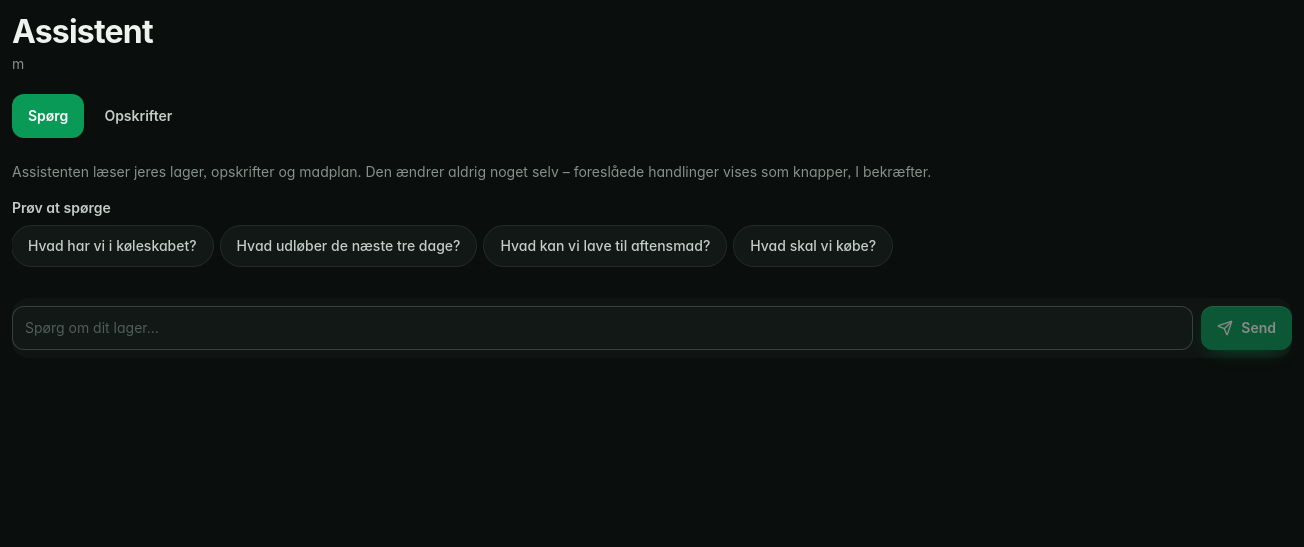
AssistantPage › shows proposed actions as buttons and runs one only when tapped
Step 1. Click the button "Hvad har vi i køleskabet?" → (112,246), box [12,226,213,266]
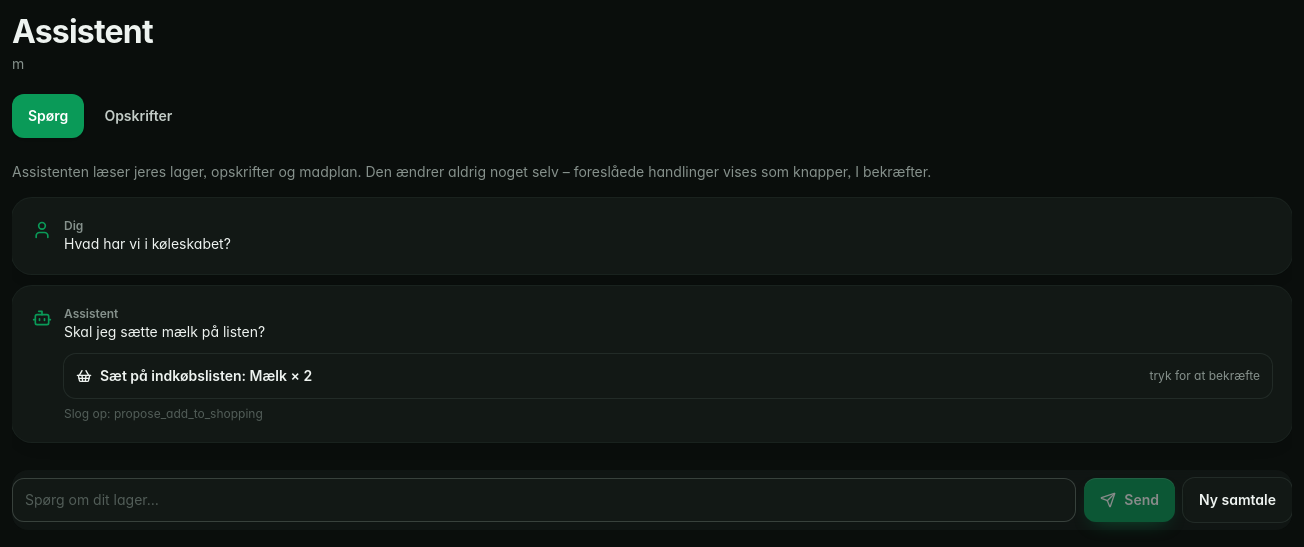
Now the button with test id "proposal" shows "Sæt på indkøbslisten: Mælk × 2"
Step 2. Click the button with test id "proposal" → (171,376), box [64,354,1272,398]
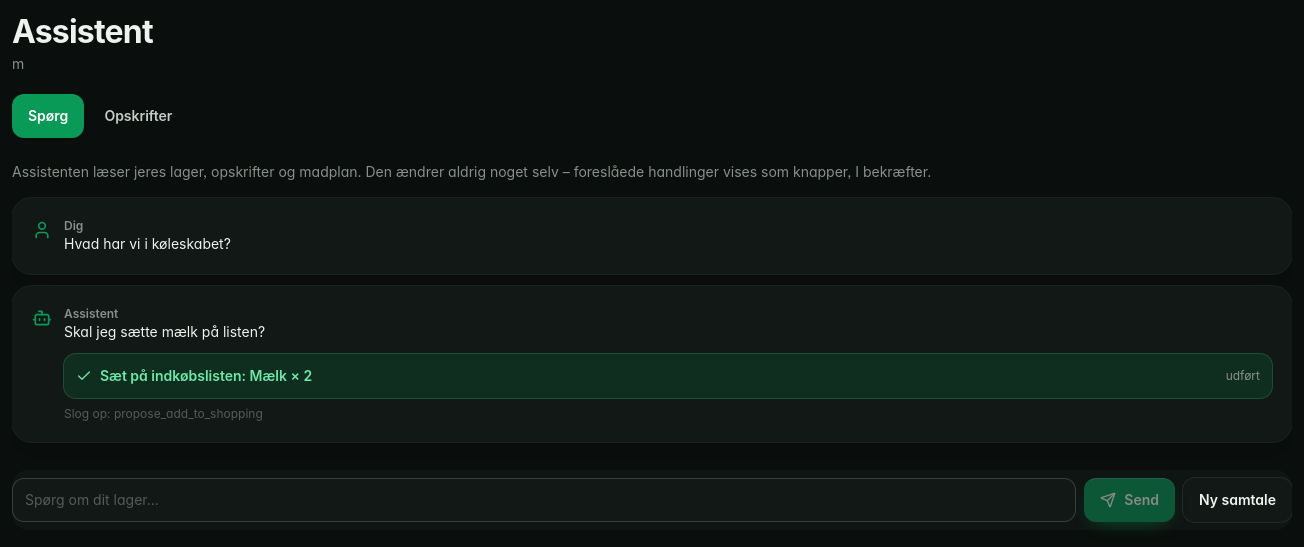
Now the button with test id "proposal" is disabled, box [64,354,1272,398]
